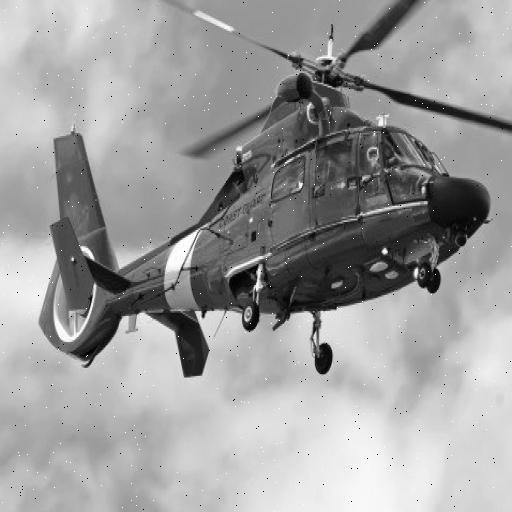helicopter: (34, 1, 512, 379)
